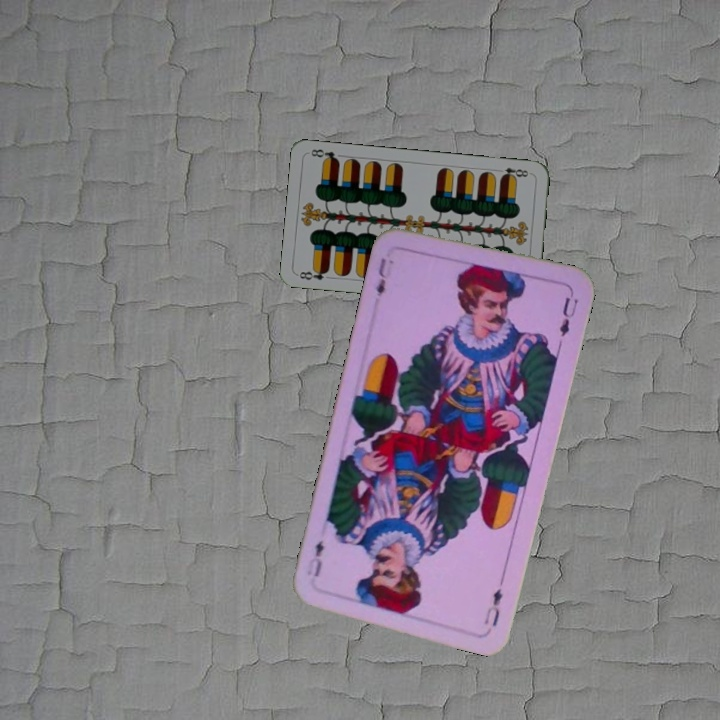E8: (493, 163, 534, 181), (295, 265, 332, 283)
EU: (480, 572, 507, 629), (371, 253, 389, 299)
